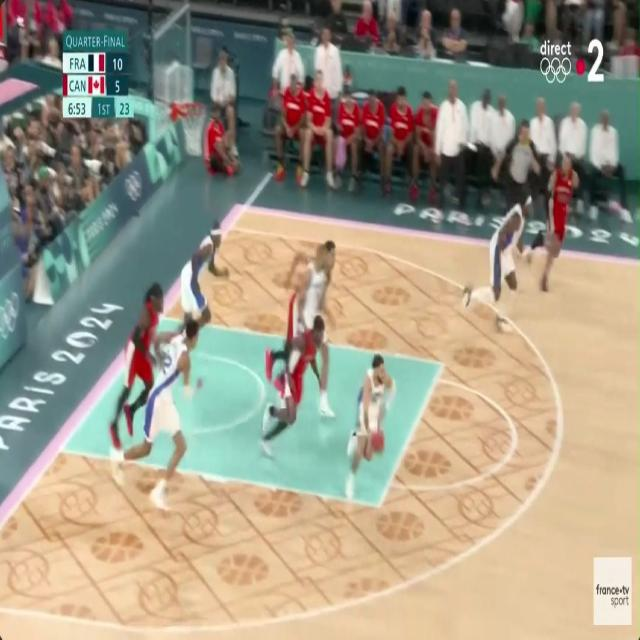ball_handler: (346, 349, 394, 496)
